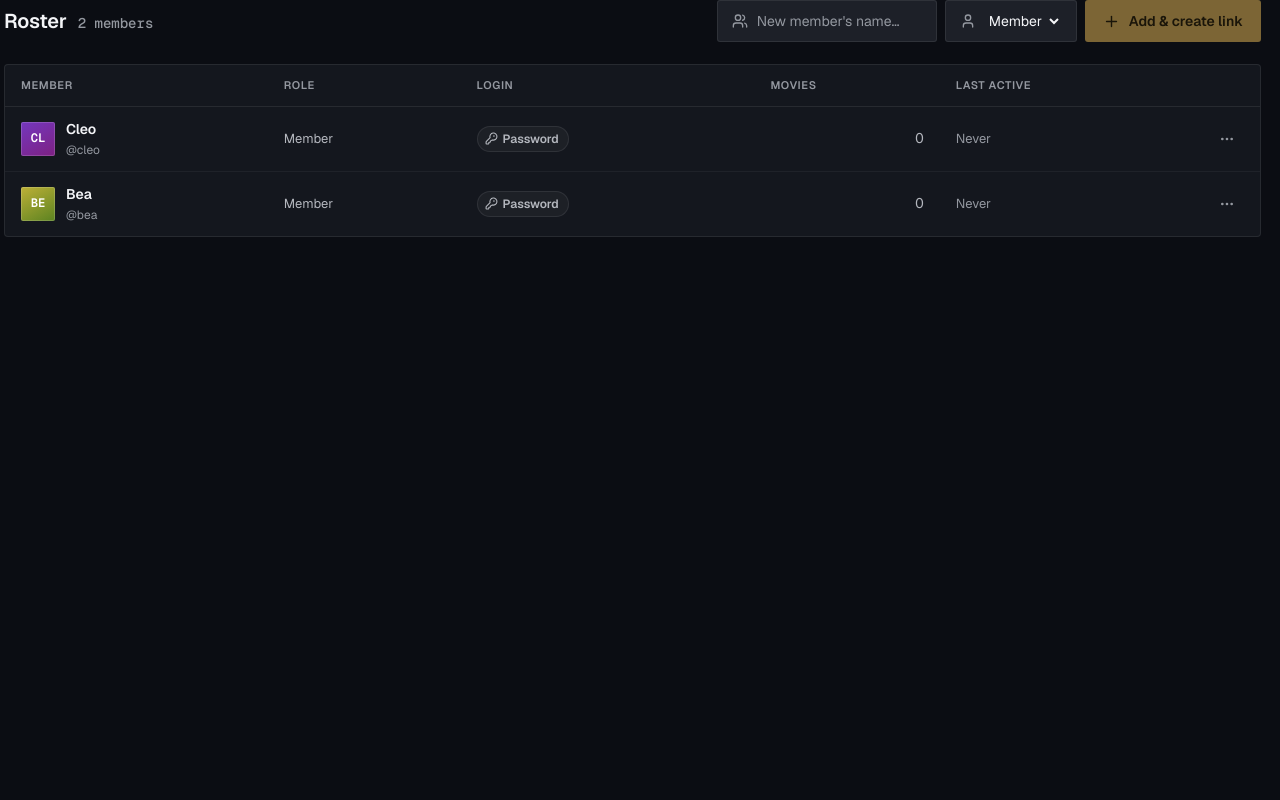
Test: opening a ceremony from a member's row › carries the member into the set-login dialog, prefilled with their username
Click the button named "Actions for Bea" at (1227, 204), box left=1210, top=186, right=1244, bottom=220
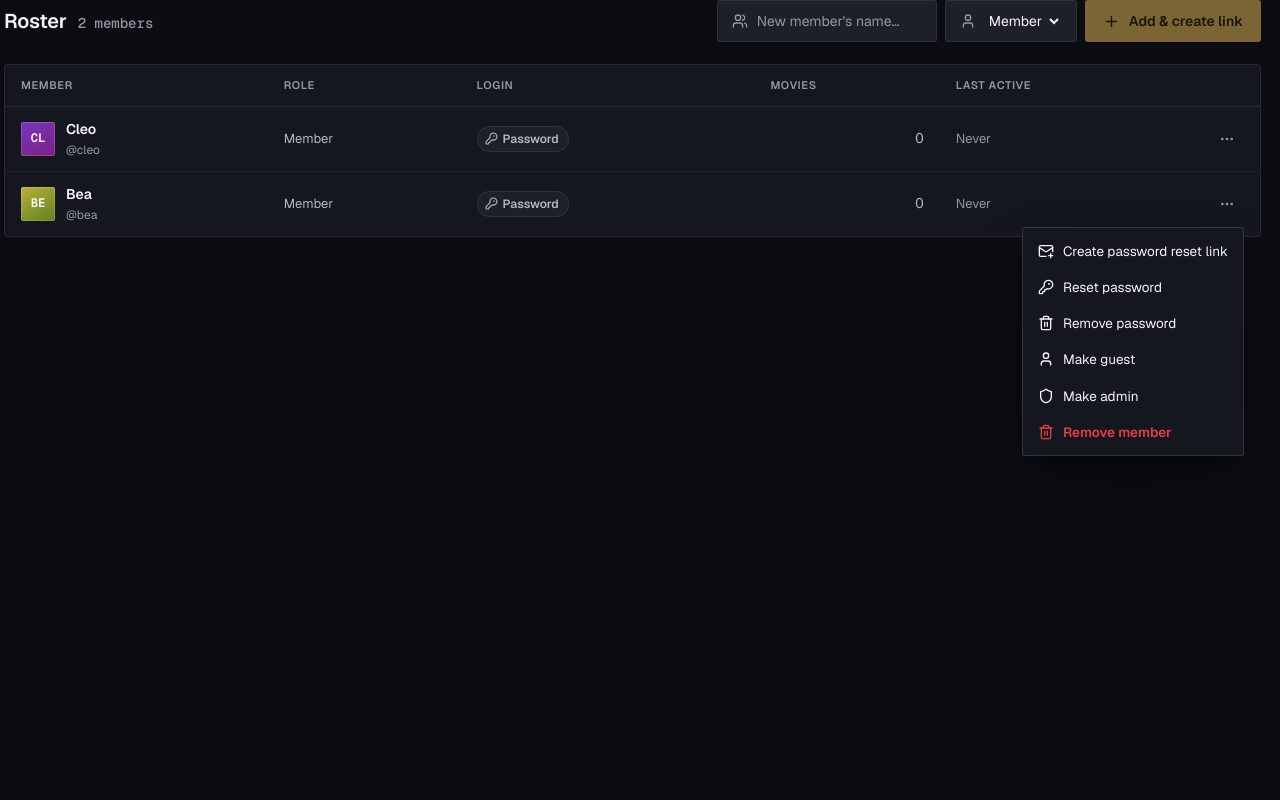
Click the menu item "Reset password" at (1133, 287), box left=1028, top=269, right=1238, bottom=305
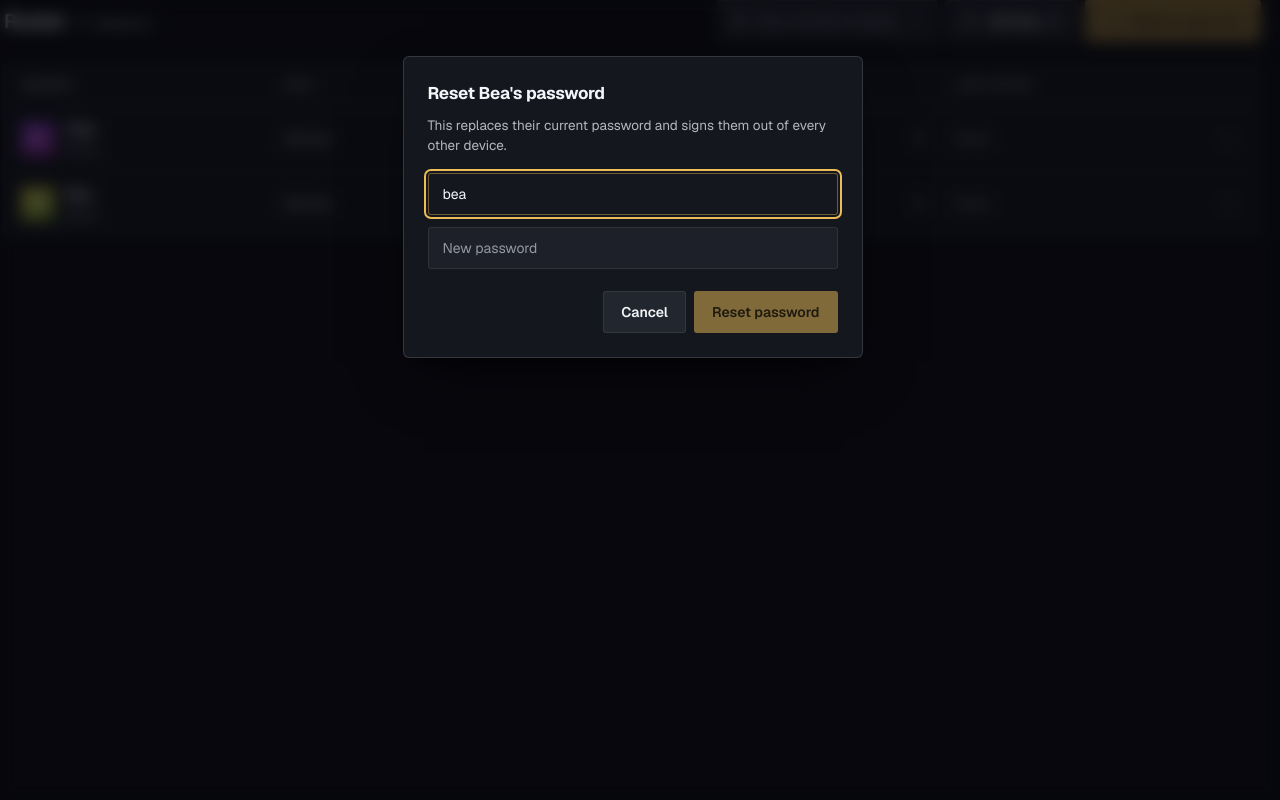
Now the heading shows "Bea", box left=428, top=82, right=605, bottom=104
Now the field named "Username" holds "bea", box left=442, top=185, right=822, bottom=203
